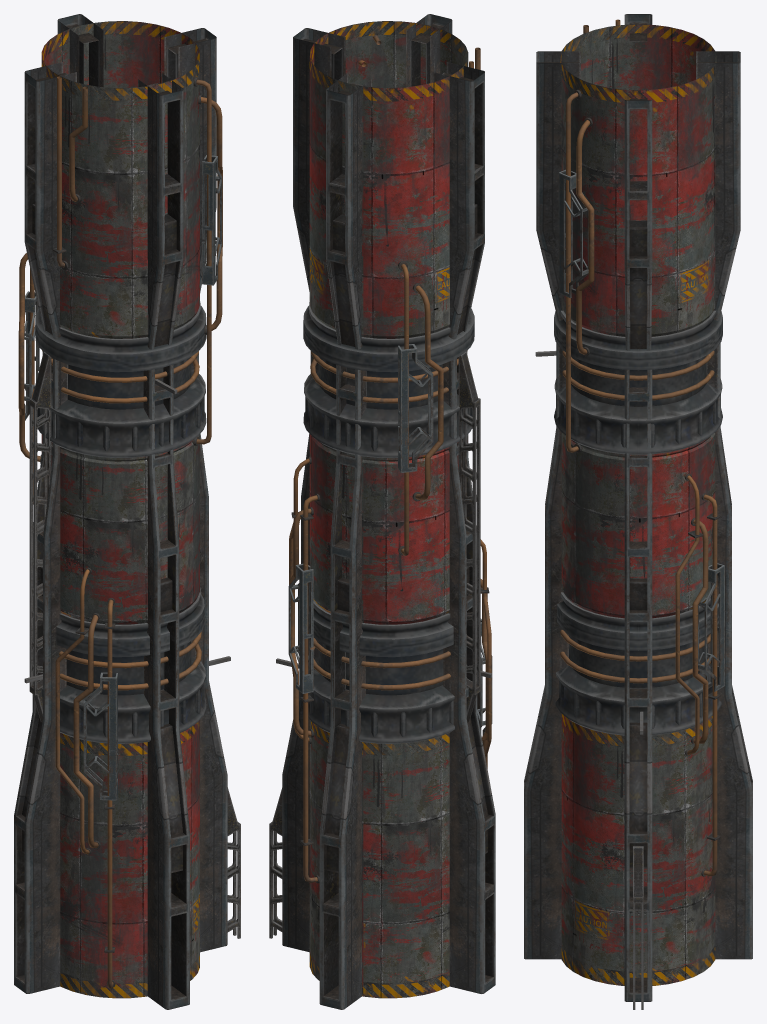
The model's file is Pagoda_Pillar_8000_A.FBX.
3 renders of one model, left to right at view 1: azimuth 30°, elevation 25°; view 2: azimuth 150°, elevation 25°; view 3: azimuth 270°, elevation 25°, orthographic.
Visible parts, largest first — view 1: Geometry_Pagoda_Pillar_8000_A_LOD00; view 2: Geometry_Pagoda_Pillar_8000_A_LOD00; view 3: Geometry_Pagoda_Pillar_8000_A_LOD00.
Part boxes in pixels (<box>): Geometry_Pagoda_Pillar_8000_A_LOD00: <box>14,14,240,1009</box>; Geometry_Pagoda_Pillar_8000_A_LOD00: <box>269,14,495,1009</box>; Geometry_Pagoda_Pillar_8000_A_LOD00: <box>524,14,752,1009</box>.
Size of what is drawn, in the model's own units: 2004 by 8020 by 1852.
Materials: 3 (3 with a texture image).
